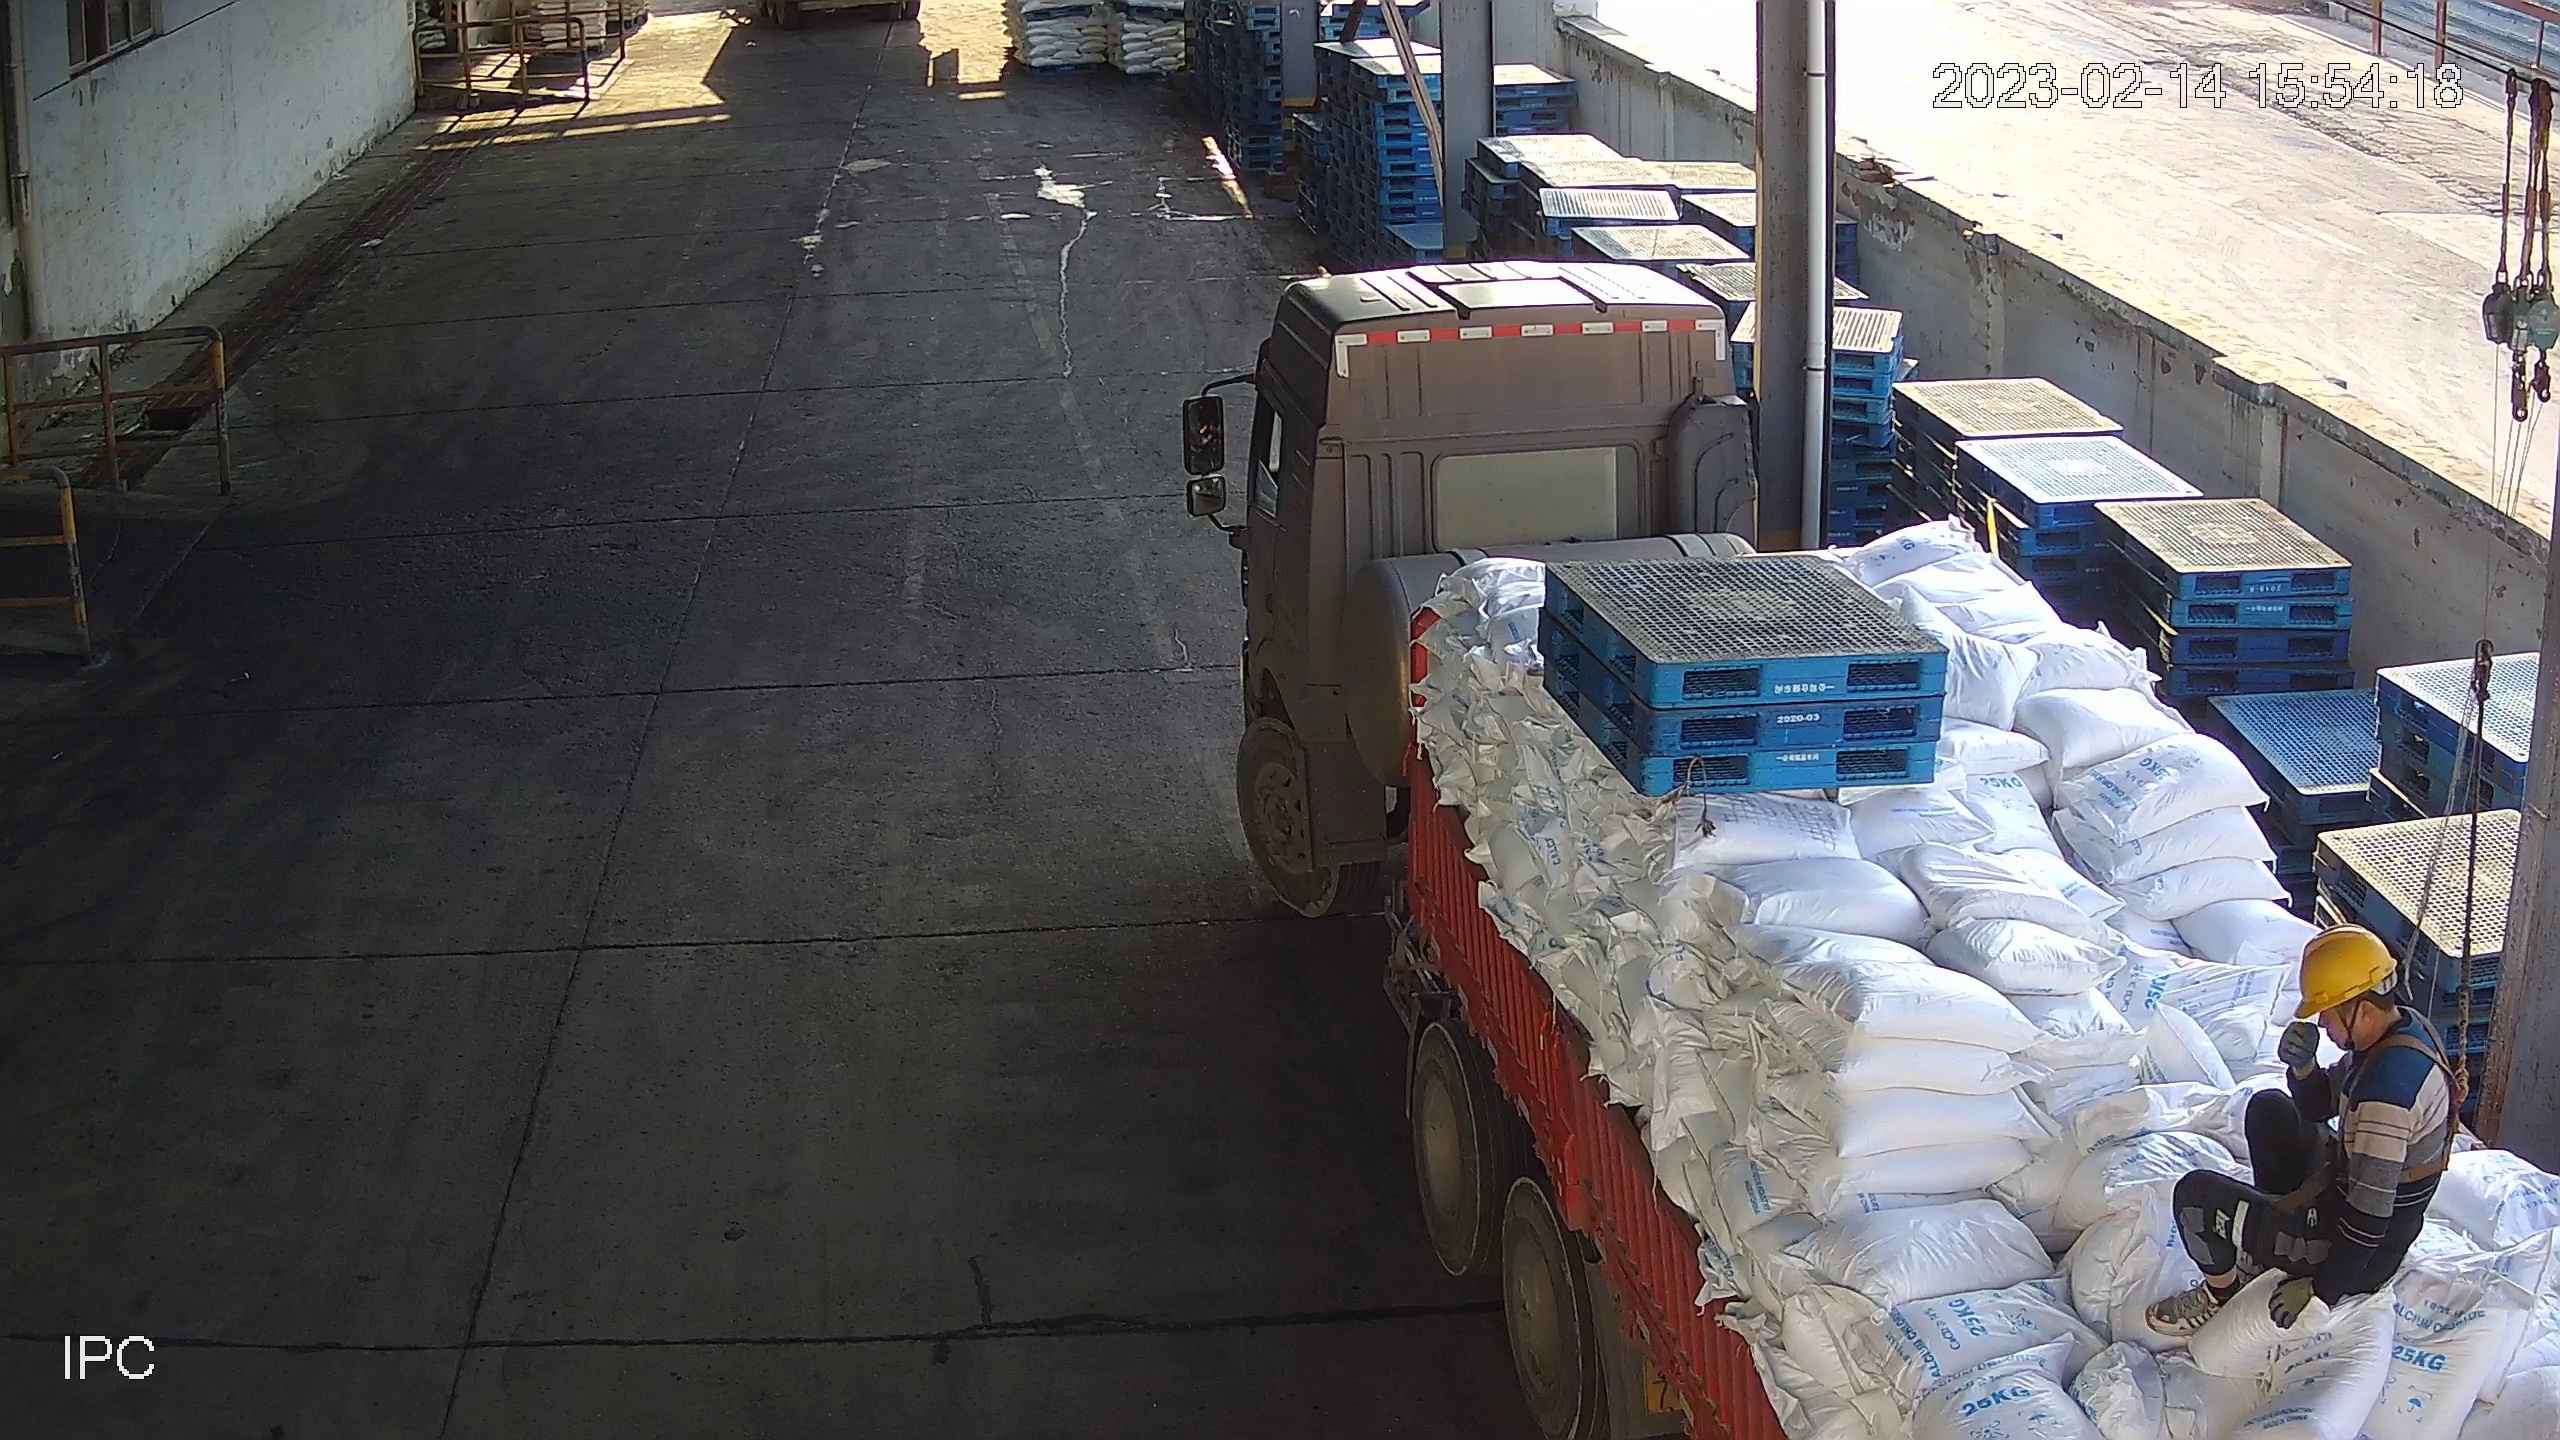belt: (2337, 1007, 2466, 1178)
head: (2291, 922, 2458, 1119)
helmet: (2292, 923, 2399, 1019)
people: (2136, 921, 2459, 1339)
truck: (1234, 257, 2560, 1440)
